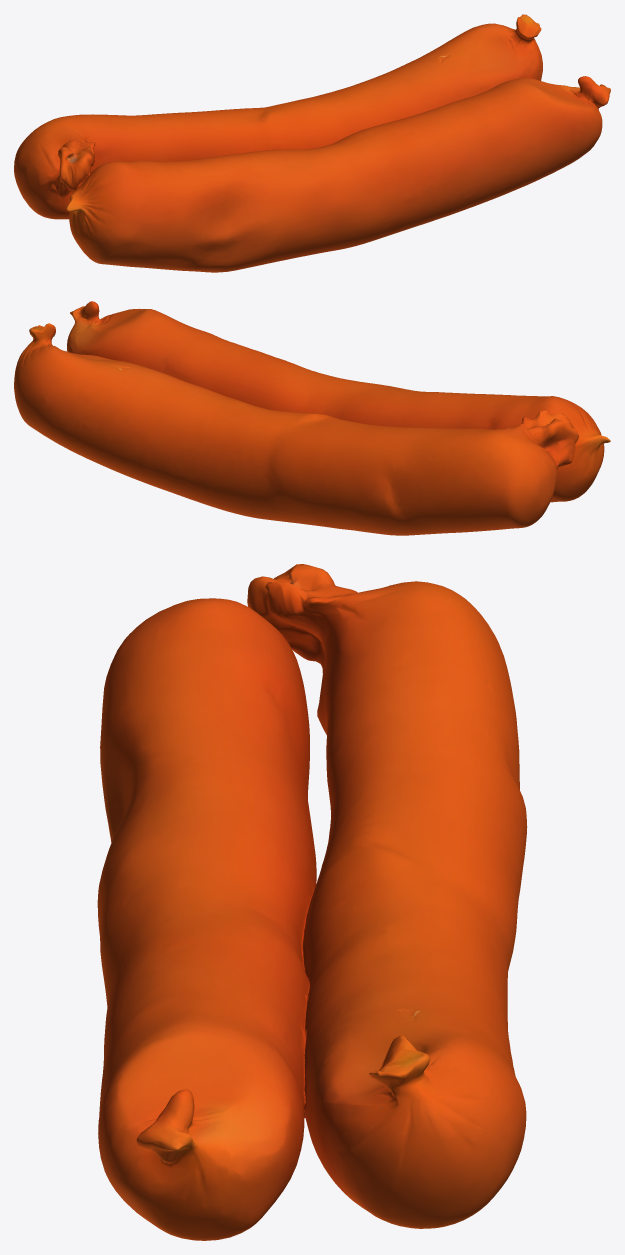
Rendered from ChorizoModel.glb.
3 views of the same model, one above another, from view 1: azimuth 30°, elevation 25°; view 2: azimuth 150°, elevation 25°; view 3: azimuth 270°, elevation 25° (orthographic). The views are drawn at different scales.
Parts seen in each view (by area): view 1: tripo_node_58ae7e49-df48-4c6b-b470-04a8155a75de; view 2: tripo_node_58ae7e49-df48-4c6b-b470-04a8155a75de; view 3: tripo_node_58ae7e49-df48-4c6b-b470-04a8155a75de.
Part boxes in pixels (left/top/right/bottom): tripo_node_58ae7e49-df48-4c6b-b470-04a8155a75de: left=14, top=14, right=610, bottom=272; tripo_node_58ae7e49-df48-4c6b-b470-04a8155a75de: left=14, top=301, right=610, bottom=535; tripo_node_58ae7e49-df48-4c6b-b470-04a8155a75de: left=97, top=564, right=527, bottom=1240.
Size of the model in its own units: 0.9846 by 0.2458 by 0.3396.
Materials: 1 (1 with a texture image).
